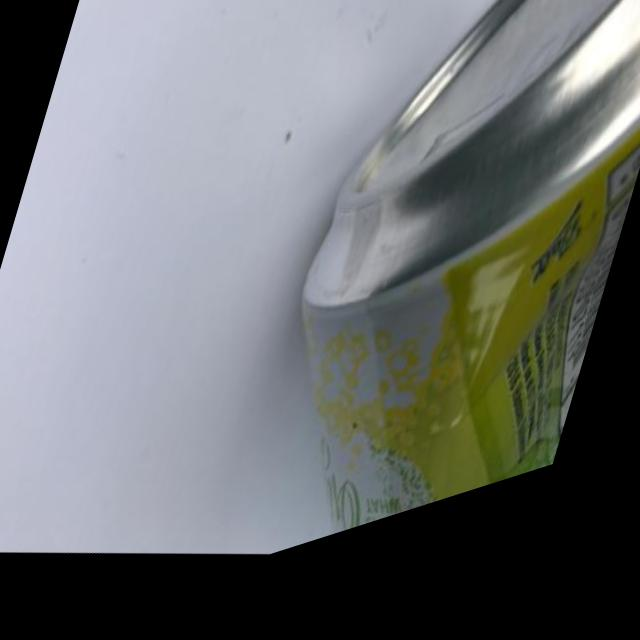metal: (176, 0, 640, 595)
